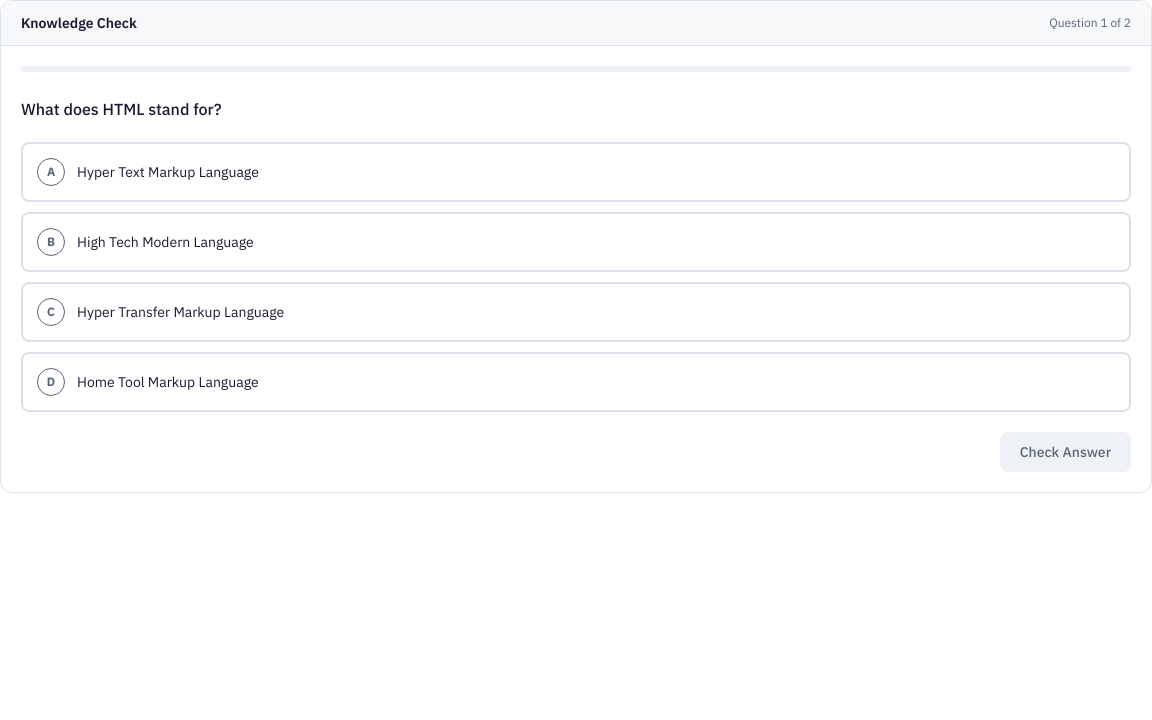
Test: QuizBlock submit › shows explanation after submitting an answer
This screenshot has width=1152, height=720.
Click the text "Hyper Text Markup Language" at (168, 172), box [77,162,259,182]
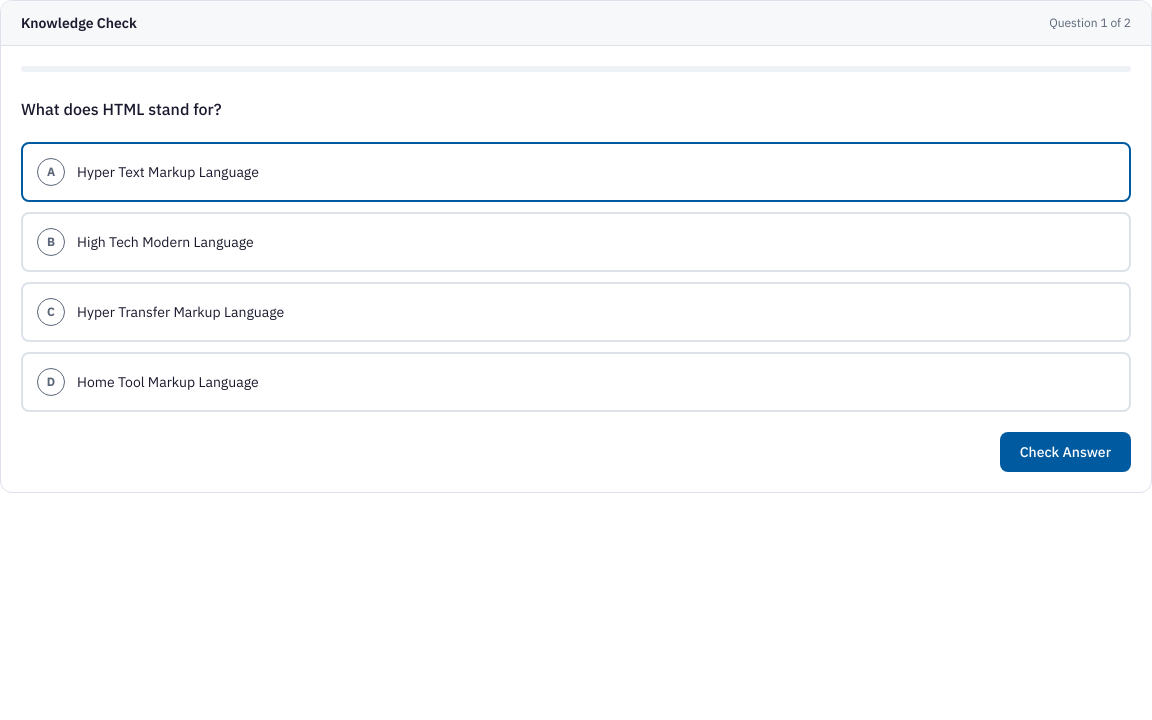
Click the button "Check Answer" at (1065, 452), box [1000,432,1131,472]
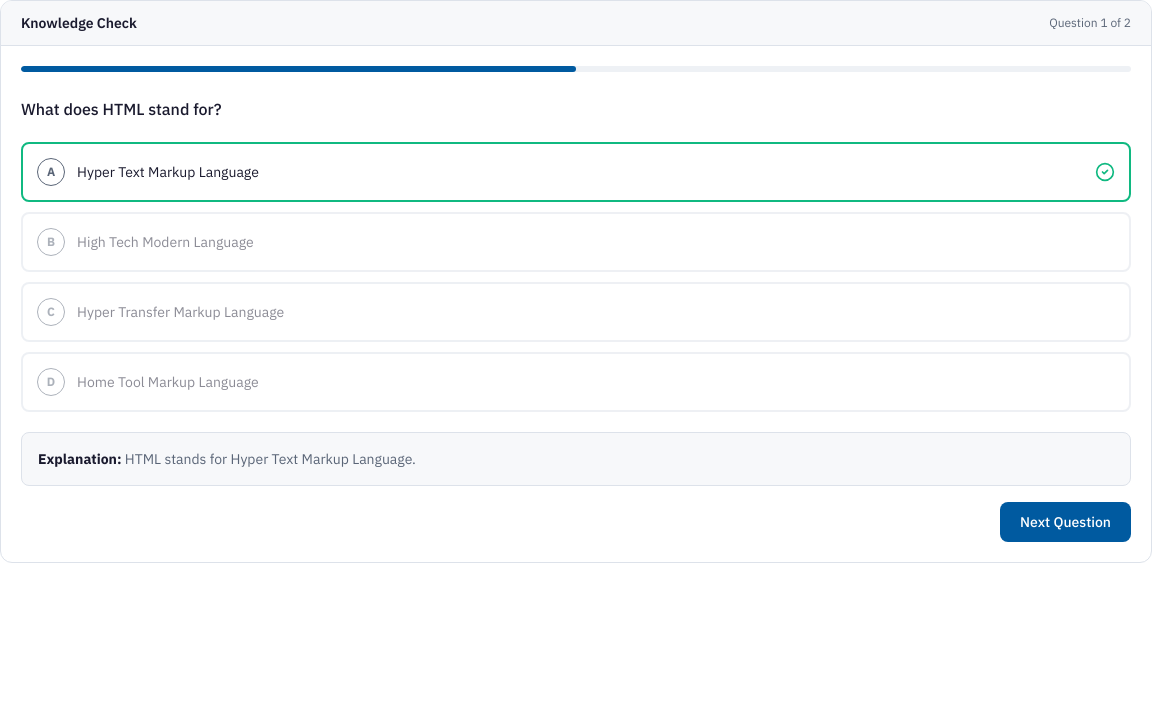
Result: the text "Explanation: HTML stands for Hyper Text Markup Language." is shown at [38,450,416,468]
